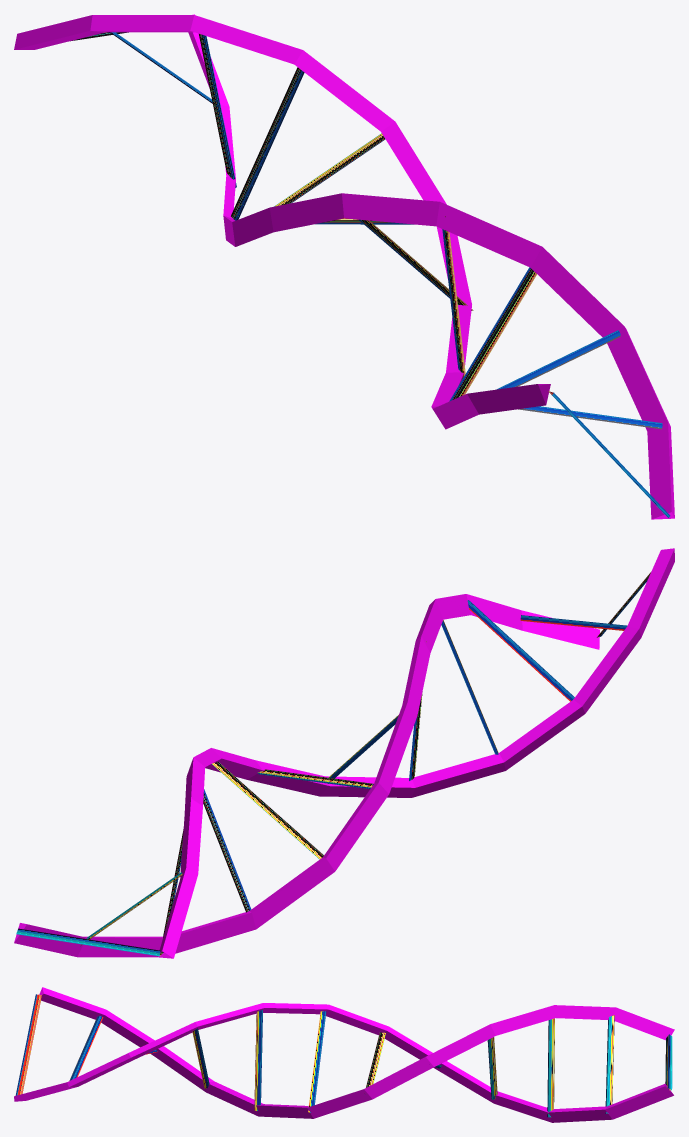
Rendered from DNA.fbx.
3 renders of one model, top to bottom at view 1: azimuth 30°, elevation 25°; view 2: azimuth 150°, elevation 25°; view 3: azimuth 270°, elevation 25°, orthographic. The views are drawn at different scales.
Parts seen in each view (by area): view 1: chromosome_dna_outer_3, chromosome_dna_inner_3; view 2: chromosome_dna_outer_3, chromosome_dna_inner_3; view 3: chromosome_dna_outer_3, chromosome_dna_inner_3.
Boxes of the visible parts, <box> form: chromosome_dna_outer_3: <box>14,14,674,519</box>; chromosome_dna_inner_3: <box>70,32,670,517</box>; chromosome_dna_outer_3: <box>14,548,674,958</box>; chromosome_dna_inner_3: <box>16,572,650,956</box>; chromosome_dna_outer_3: <box>14,987,674,1122</box>; chromosome_dna_inner_3: <box>15,994,672,1117</box>.
Size of the model in its own units: 2.12 by 1.8 by 9.88.
2 materials, 1 textured.
